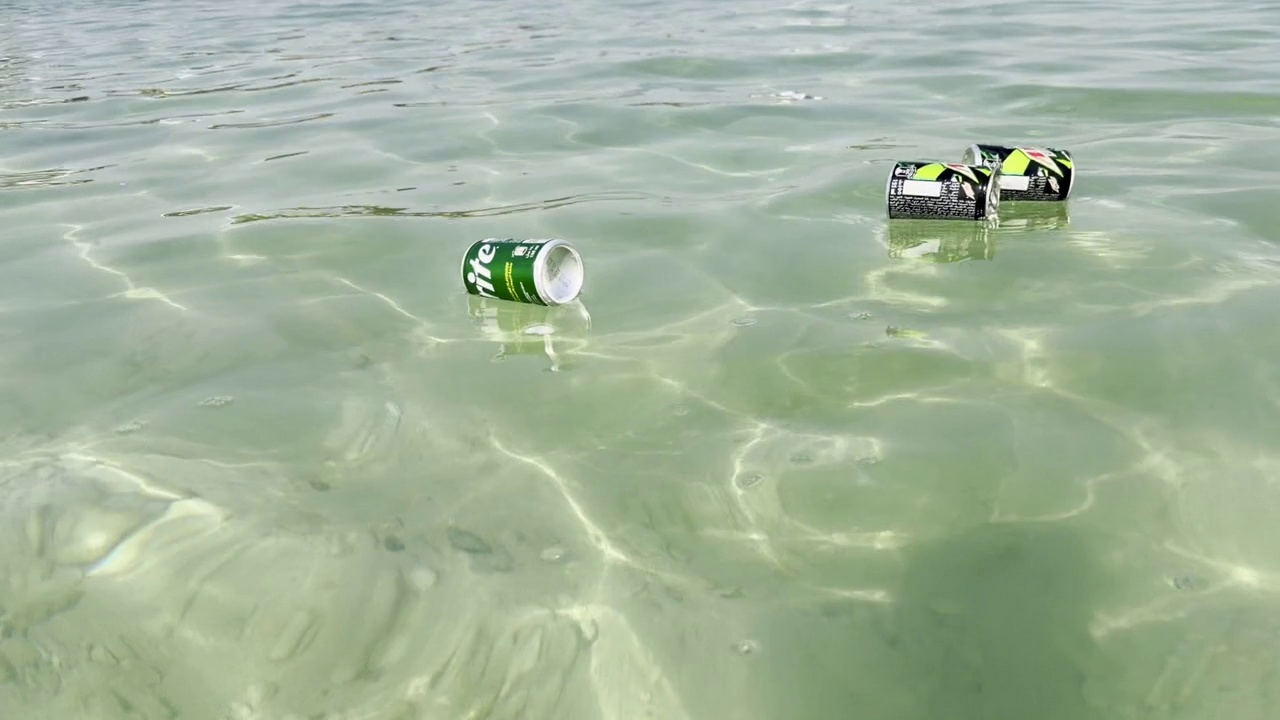debris: (451, 230, 590, 312), (961, 135, 1080, 213), (877, 156, 1001, 230)
